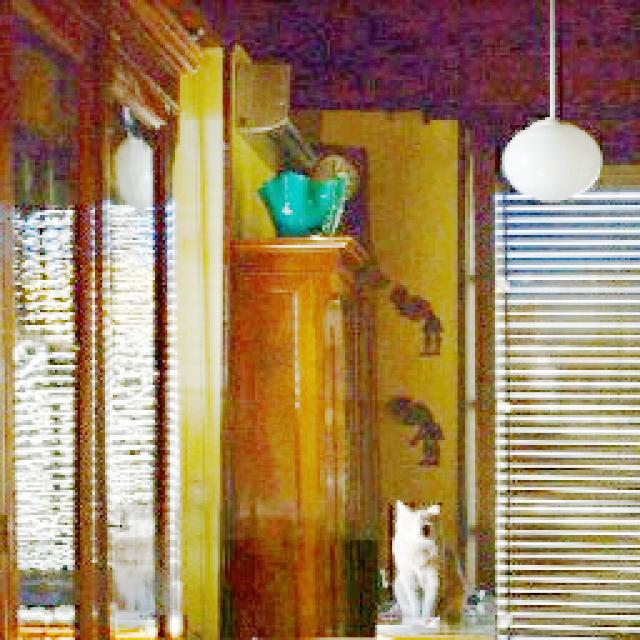cat: (390, 496, 467, 630)
